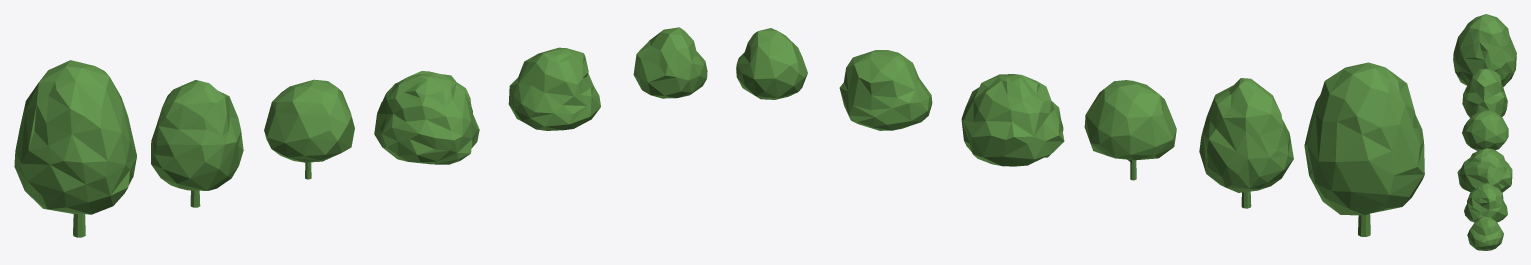
File: ShrubGrpGradients.fbx
3 renders of one model, left to right at view 1: azimuth 30°, elevation 25°; view 2: azimuth 150°, elevation 25°; view 3: azimuth 270°, elevation 25°, orthographic. The views are drawn at different scales.
Visible parts, largest first — view 1: ShrubTreeC_geo, ShrubTreeB_geo, ShrubGroundC_geo, ShrubTreeA_geo, ShrubGroundB_geo, ShrubGroundA_geo; view 2: ShrubTreeC_geo, ShrubTreeB_geo, ShrubGroundC_geo, ShrubTreeA_geo, ShrubGroundB_geo, ShrubGroundA_geo; view 3: ShrubTreeC_geo, ShrubGroundC_geo, ShrubTreeB_geo, ShrubTreeA_geo, ShrubGroundB_geo, ShrubGroundA_geo.
Part boxes in pixels (box(x1,y1,x2,y2)): ShrubTreeC_geo: box(14, 60, 136, 237); ShrubTreeB_geo: box(151, 80, 243, 207); ShrubGroundC_geo: box(374, 71, 479, 164); ShrubTreeA_geo: box(264, 79, 354, 179); ShrubGroundB_geo: box(508, 47, 600, 130); ShrubGroundA_geo: box(633, 27, 707, 98); ShrubTreeC_geo: box(1304, 62, 1424, 236); ShrubTreeB_geo: box(1199, 78, 1293, 208); ShrubGroundC_geo: box(961, 74, 1064, 166); ShrubTreeA_geo: box(1084, 80, 1176, 180); ShrubGroundB_geo: box(839, 50, 932, 130); ShrubGroundA_geo: box(736, 28, 807, 99); ShrubTreeC_geo: box(1453, 14, 1516, 86); ShrubGroundC_geo: box(1457, 148, 1512, 192); ShrubTreeB_geo: box(1462, 68, 1507, 117); ShrubTreeA_geo: box(1462, 110, 1508, 150); ShrubGroundB_geo: box(1464, 183, 1507, 222); ShrubGroundA_geo: box(1467, 216, 1503, 250).
Size of the model in its own units: 2670 by 658 by 434.
